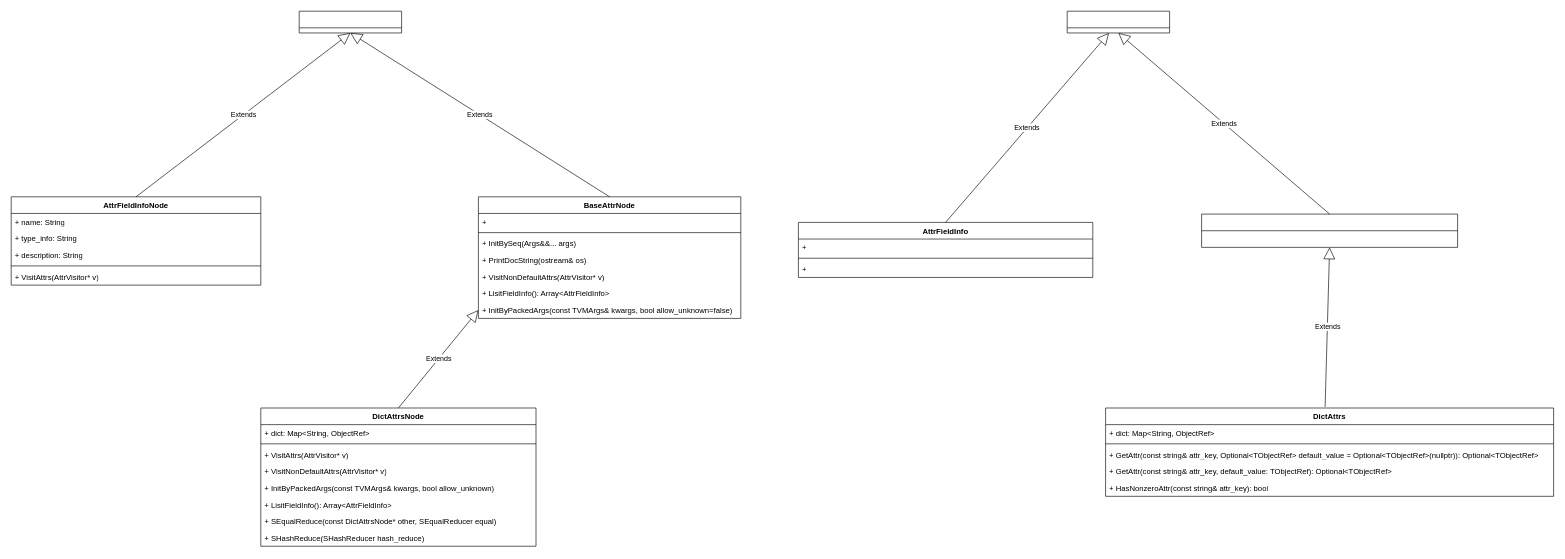
This 1565x559 diagram has some shape labels left out. Here are the shapes that lost their labels. From the top down, the centre of each, then its label:
point (350, 22): Object
point (1118, 22): ObjectRef
point (1329, 230): Attrs
